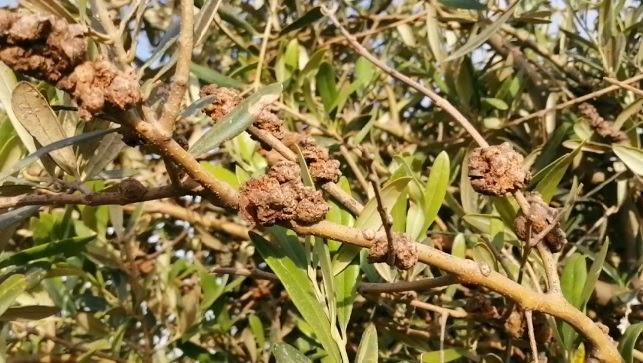Tuberculosis: (0, 9, 157, 110), (231, 123, 338, 251), (464, 138, 576, 248), (260, 103, 364, 188), (574, 97, 628, 148), (362, 232, 420, 270)
